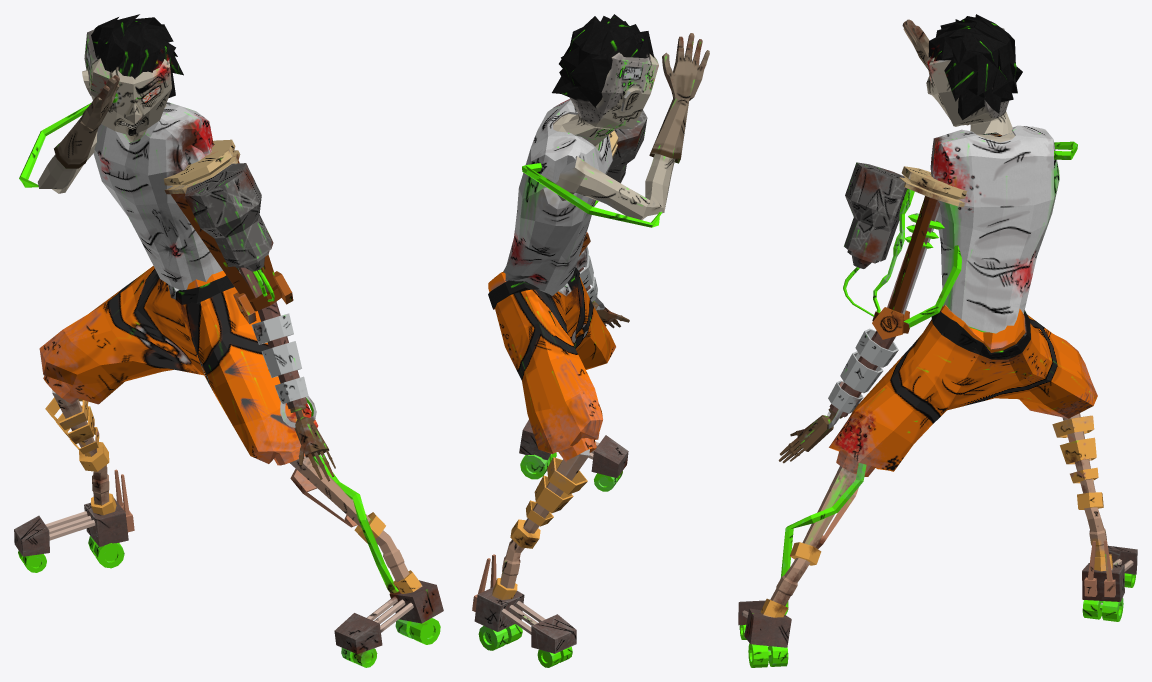
The model's file is CyborgFINALAnimation_000007.obj.
The picture shows the model from 3 angles, left to right: view 1: azimuth 30°, elevation 25°; view 2: azimuth 150°, elevation 25°; view 3: azimuth 270°, elevation 25°; orthographic projection. The views are drawn at different scales.
Visible parts, largest first — view 1: CyborgMesh_Cube.002; view 2: CyborgMesh_Cube.002; view 3: CyborgMesh_Cube.002.
Part boxes in pixels (box(x1,y1,x2,y2)): CyborgMesh_Cube.002: box(14, 14, 443, 667); CyborgMesh_Cube.002: box(472, 14, 709, 667); CyborgMesh_Cube.002: box(738, 14, 1137, 667).
Size of the model in its own units: 4.13 by 8.69 by 5.44.
